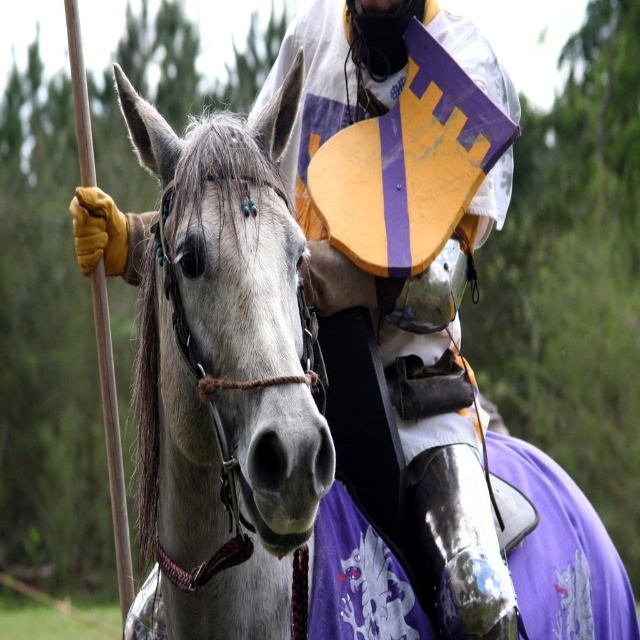Horse: (112, 48, 640, 640)
